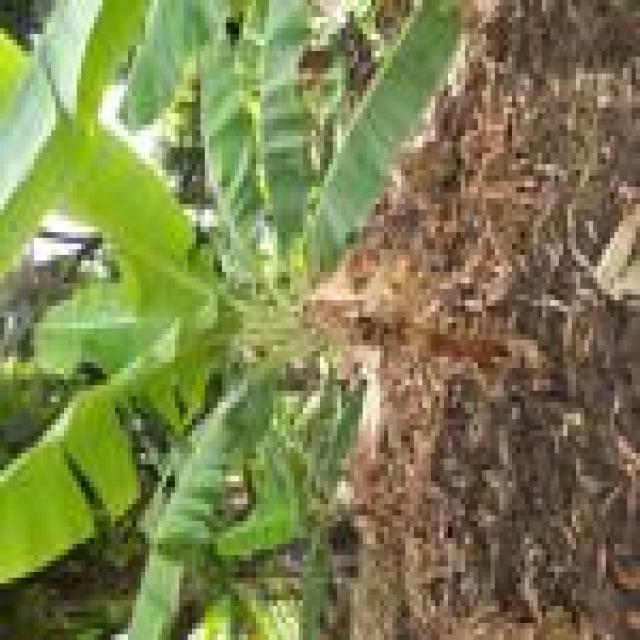Early_rust: (149, 564, 308, 640)
